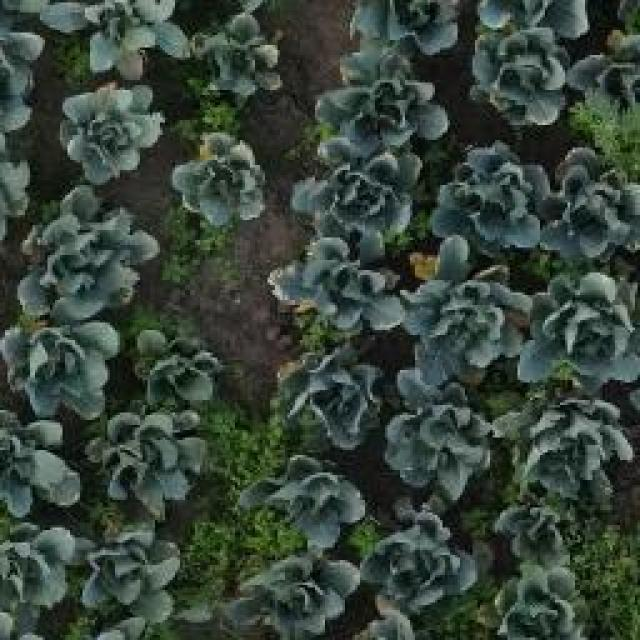cabbage: (16, 188, 160, 312), (494, 392, 635, 509), (401, 238, 523, 368), (517, 266, 640, 385), (266, 234, 401, 340), (314, 53, 449, 152), (383, 373, 494, 492), (300, 145, 424, 249), (436, 139, 548, 254), (0, 310, 115, 418), (542, 140, 640, 262), (463, 17, 568, 129), (368, 508, 476, 616), (238, 548, 362, 640), (57, 80, 164, 184), (95, 410, 206, 510), (79, 524, 181, 629), (255, 450, 370, 543), (167, 131, 272, 231), (196, 7, 292, 108), (125, 318, 219, 411), (79, 0, 191, 78), (0, 407, 82, 512), (0, 512, 75, 622), (298, 356, 383, 444), (347, 0, 460, 62), (503, 556, 592, 634)
